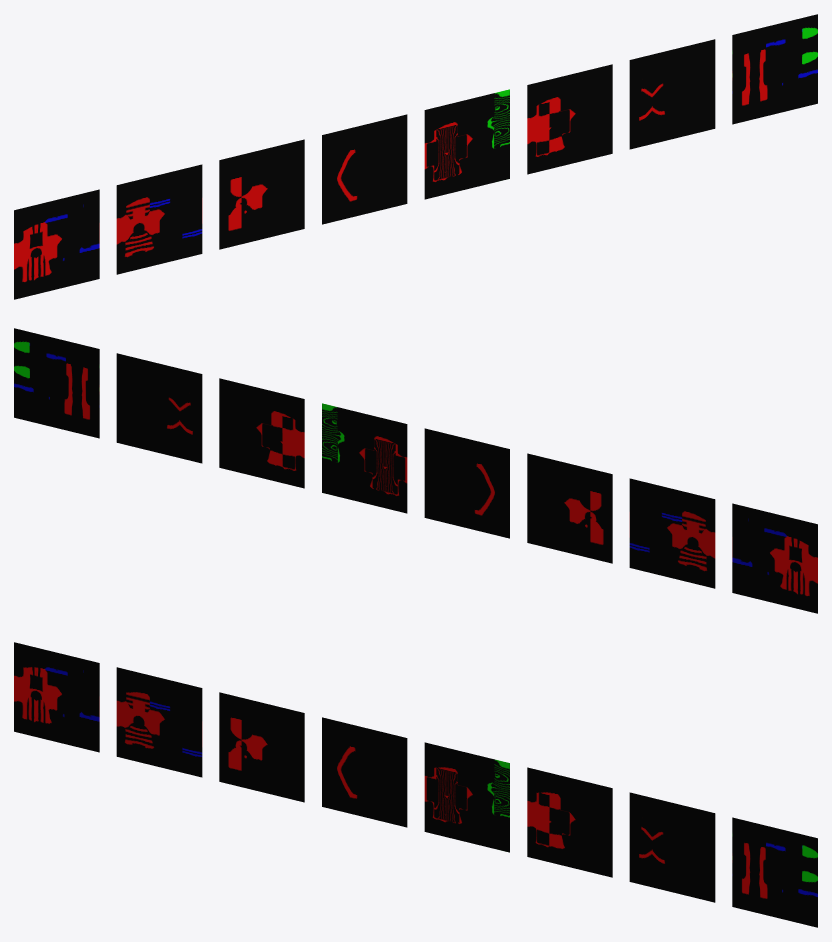
File: kitpattern.glb
The picture shows the model from 3 angles, top to bottom: view 1: azimuth 30°, elevation 25°; view 2: azimuth 150°, elevation 25°; view 3: azimuth 330°, elevation 25°; orthographic projection.
Visible parts, largest first — view 1: SM_KitPattern_002_Hoops, SM_KitPattern_007_Chevron, SM_KitPattern_001_Stripes, SM_KitPattern_003_Halves, SM_KitPattern_004_Sash, SM_KitPattern_005_Pinstripes, SM_KitPattern_006_Quarters, SM_KitPattern_008_Side_Panels; view 2: SM_KitPattern_002_Hoops, SM_KitPattern_007_Chevron, SM_KitPattern_001_Stripes, SM_KitPattern_003_Halves, SM_KitPattern_004_Sash, SM_KitPattern_005_Pinstripes, SM_KitPattern_006_Quarters, SM_KitPattern_008_Side_Panels; view 3: SM_KitPattern_002_Hoops, SM_KitPattern_007_Chevron, SM_KitPattern_001_Stripes, SM_KitPattern_003_Halves, SM_KitPattern_004_Sash, SM_KitPattern_005_Pinstripes, SM_KitPattern_006_Quarters, SM_KitPattern_008_Side_Panels.
Part boxes in pixels (x1=…): SM_KitPattern_002_Hoops: x1=116, y1=164, x2=202, y2=274; SM_KitPattern_007_Chevron: x1=629, y1=39, x2=715, y2=149; SM_KitPattern_001_Stripes: x1=14, y1=189, x2=99, y2=299; SM_KitPattern_003_Halves: x1=219, y1=139, x2=304, y2=249; SM_KitPattern_004_Sash: x1=322, y1=114, x2=407, y2=224; SM_KitPattern_005_Pinstripes: x1=424, y1=89, x2=509, y2=199; SM_KitPattern_006_Quarters: x1=527, y1=64, x2=612, y2=174; SM_KitPattern_008_Side_Panels: x1=732, y1=14, x2=817, y2=124; SM_KitPattern_002_Hoops: x1=629, y1=478, x2=715, y2=588; SM_KitPattern_007_Chevron: x1=116, y1=353, x2=202, y2=463; SM_KitPattern_001_Stripes: x1=732, y1=503, x2=817, y2=613; SM_KitPattern_003_Halves: x1=527, y1=453, x2=612, y2=563; SM_KitPattern_004_Sash: x1=424, y1=428, x2=509, y2=538; SM_KitPattern_005_Pinstripes: x1=322, y1=403, x2=407, y2=513; SM_KitPattern_006_Quarters: x1=219, y1=378, x2=304, y2=488; SM_KitPattern_008_Side_Panels: x1=14, y1=328, x2=99, y2=438; SM_KitPattern_002_Hoops: x1=116, y1=667, x2=202, y2=777; SM_KitPattern_007_Chevron: x1=629, y1=792, x2=715, y2=902; SM_KitPattern_001_Stripes: x1=14, y1=642, x2=99, y2=752; SM_KitPattern_003_Halves: x1=219, y1=692, x2=304, y2=802; SM_KitPattern_004_Sash: x1=322, y1=717, x2=407, y2=827; SM_KitPattern_005_Pinstripes: x1=424, y1=742, x2=509, y2=852; SM_KitPattern_006_Quarters: x1=527, y1=767, x2=612, y2=877; SM_KitPattern_008_Side_Panels: x1=732, y1=817, x2=817, y2=927.
Bounding box in the file's own units: 0.94 × 0.1 × 0.
8 materials, 8 textured.
